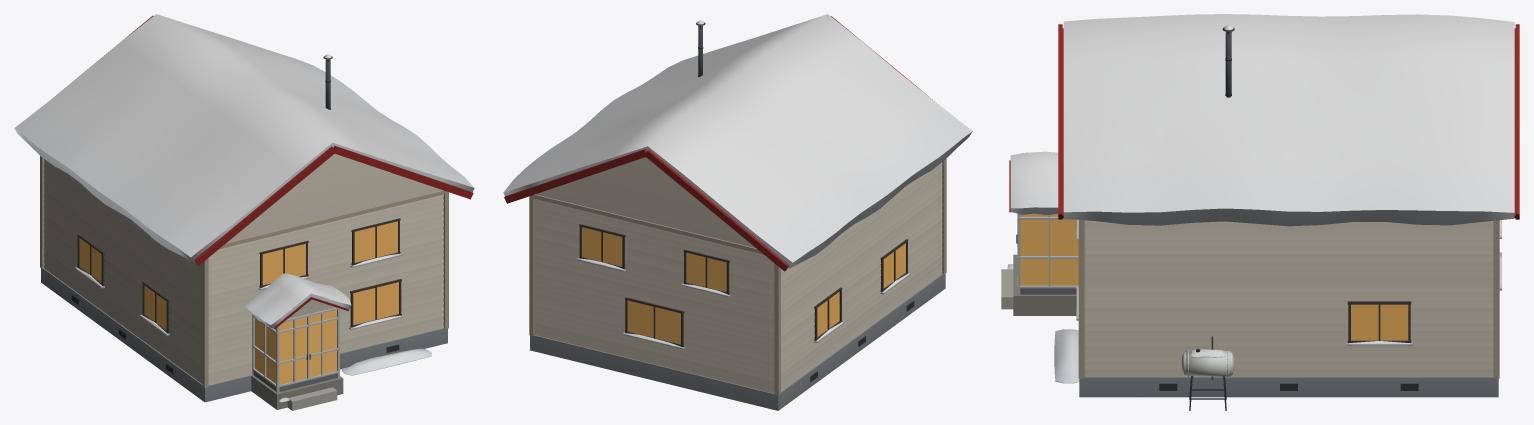
File: house_red.glb
3 renders of one model, left to right at view 1: azimuth 30°, elevation 25°; view 2: azimuth 150°, elevation 25°; view 3: azimuth 270°, elevation 25°, orthographic. The views are drawn at different scales.
Parts seen in each view (by area): view 1: house_red; view 2: house_red; view 3: house_red.
Part boxes in pixels (<box>): house_red: <box>14,14,474,410</box>; house_red: <box>503,14,972,410</box>; house_red: <box>1001,14,1519,410</box>.
Size of the model in its own units: 11.51 by 9.77 by 13.74.
